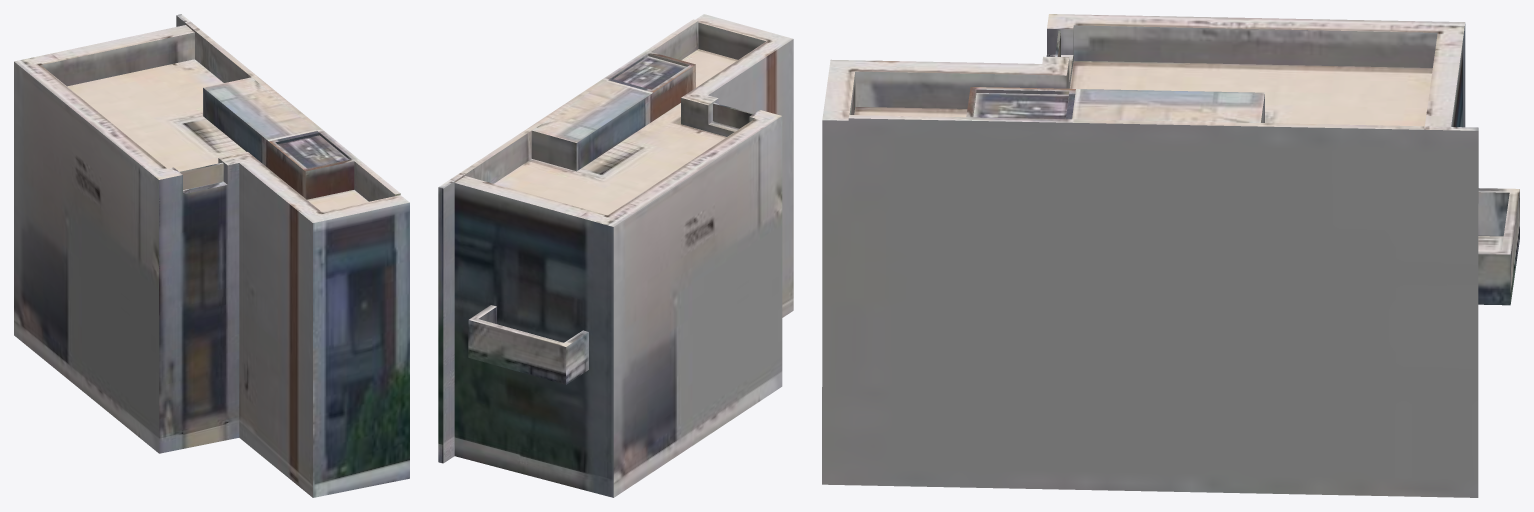
3 renders of one model, left to right at view 1: azimuth 30°, elevation 25°; view 2: azimuth 150°, elevation 25°; view 3: azimuth 270°, elevation 25°, orthographic. The views are drawn at different scales.
Parts seen in each view (by area): view 1: B285204034301062A0; view 2: B285204034301062A0; view 3: B285204034301062A0.
Part boxes in pixels (x1,y1,x2,y2): B285204034301062A0: [14, 14, 409, 497]; B285204034301062A0: [438, 14, 793, 497]; B285204034301062A0: [822, 14, 1519, 497].
Size of the model in its own units: 6.69 by 9.61 by 16.55.
Materials: 1 (1 with a texture image).
